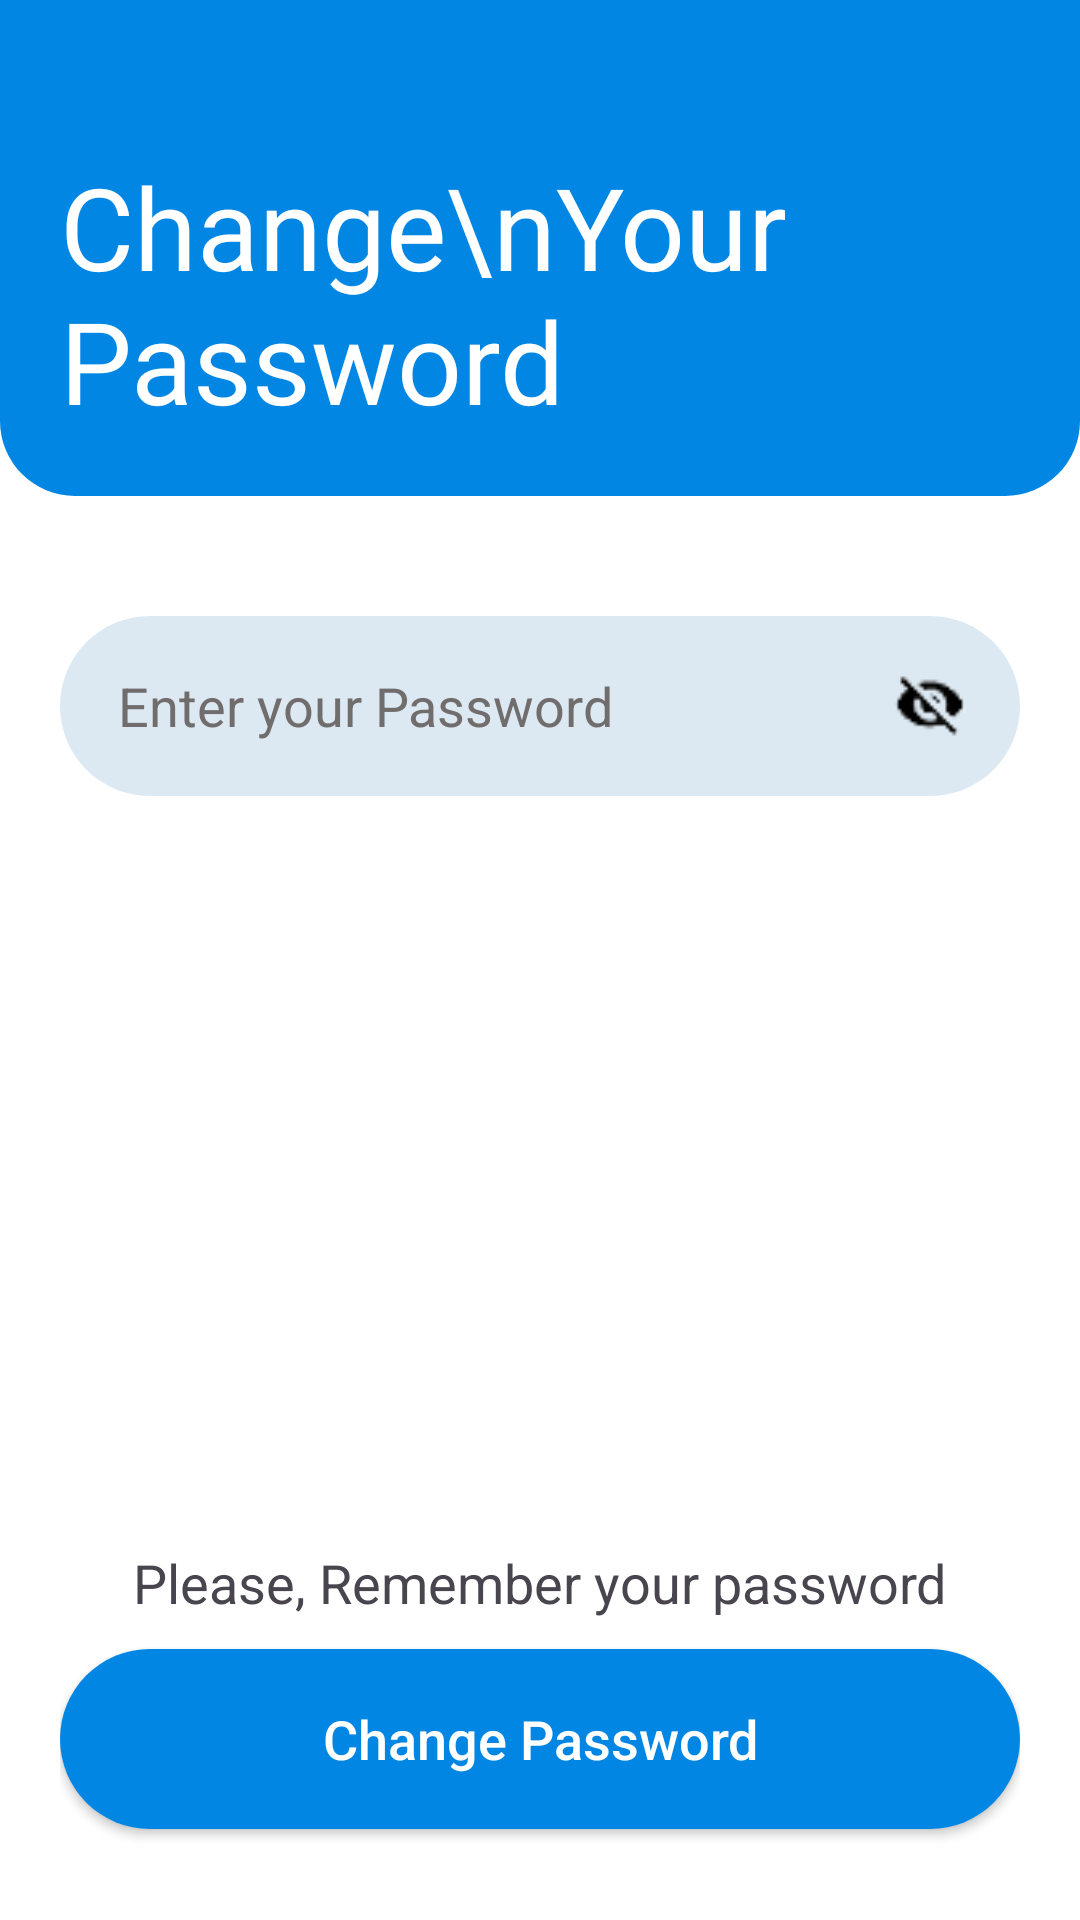

Screen size 1080x1920. Icon name, then its box in pixels as BBox(x1, y1, x2, y2):
invisi eye: BBox(840, 616, 1020, 796)
